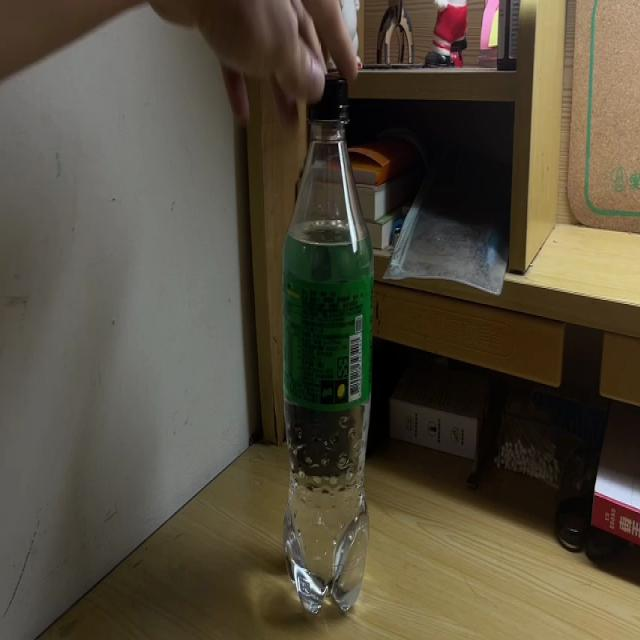Sprite: (282, 73, 373, 622)
